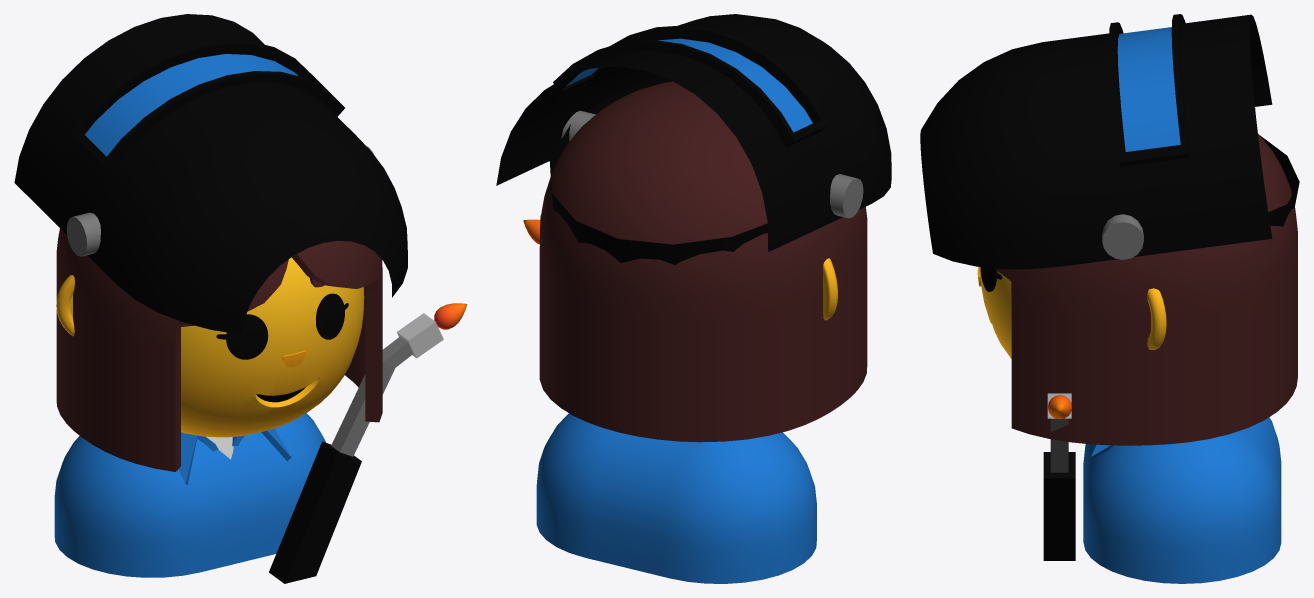
Rendered from woman_factory_worker.glb.
3 renders of one model, left to right at view 1: azimuth 30°, elevation 25°; view 2: azimuth 150°, elevation 25°; view 3: azimuth 270°, elevation 25°, orthographic.
Parts seen in each view (by area): view 1: Sphere.068, Sphere.067, Roundcube.107, Roundcube.106, Cube.1325, Circle.647, Circle.651, Plane.052, Cylinder.093, Sphere.069; view 2: Roundcube.107, Sphere.068, Sphere.067, Circle.650, Circle.651, Cylinder.093; view 3: Sphere.068, Roundcube.107, Sphere.067, Cube.1325, Roundcube.106, Circle.651, Circle.650, Cylinder.093.
Part boxes in pixels (bbox=[...]): Sphere.068: bbox=[14, 14, 407, 334]; Sphere.067: bbox=[54, 413, 325, 577]; Roundcube.107: bbox=[56, 228, 382, 471]; Roundcube.106: bbox=[181, 257, 364, 437]; Cube.1325: bbox=[269, 313, 443, 583]; Circle.647: bbox=[226, 293, 344, 359]; Circle.651: bbox=[66, 146, 373, 256]; Plane.052: bbox=[178, 428, 291, 485]; Cylinder.093: bbox=[56, 275, 74, 336]; Sphere.069: bbox=[434, 303, 467, 329]; Roundcube.107: bbox=[539, 81, 867, 442]; Sphere.068: bbox=[496, 14, 891, 251]; Sphere.067: bbox=[536, 413, 816, 583]; Circle.650: bbox=[549, 76, 767, 265]; Circle.651: bbox=[561, 110, 863, 218]; Cylinder.093: bbox=[539, 213, 837, 320]; Sphere.068: bbox=[920, 14, 1272, 269]; Roundcube.107: bbox=[994, 134, 1297, 445]; Sphere.067: bbox=[1083, 417, 1281, 583]; Cube.1325: bbox=[1043, 393, 1075, 560]; Roundcube.106: bbox=[979, 267, 1011, 358]; Circle.651: bbox=[1102, 214, 1143, 259]; Circle.650: bbox=[1260, 135, 1299, 226]; Cylinder.093: bbox=[1147, 288, 1166, 350].
Bounding box in the file's own units: 2.04 × 2.69 × 1.83.
2 materials, 2 textured.
